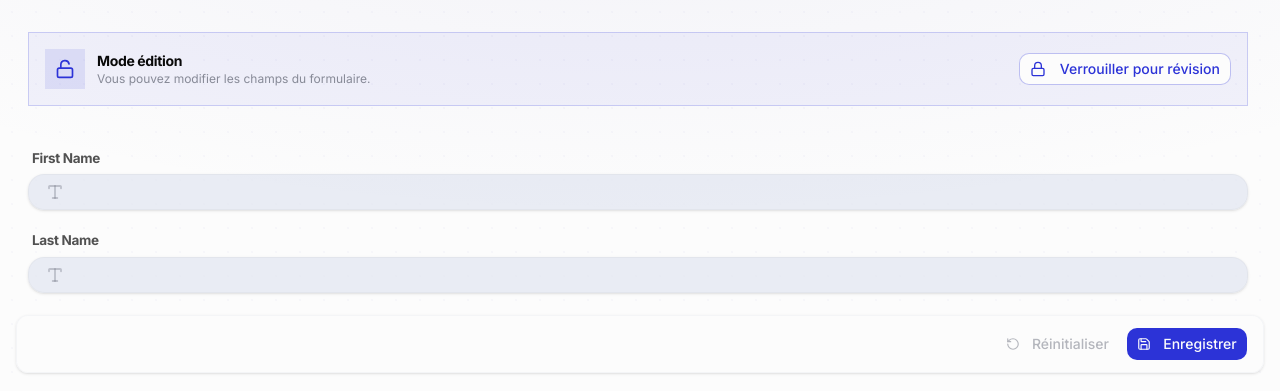
Test: DynamicForm - modes › toggles review mode lock state
Click the button "Verrouiller pour révision". click: x=1125, y=69
box: [1019, 53, 1231, 85]
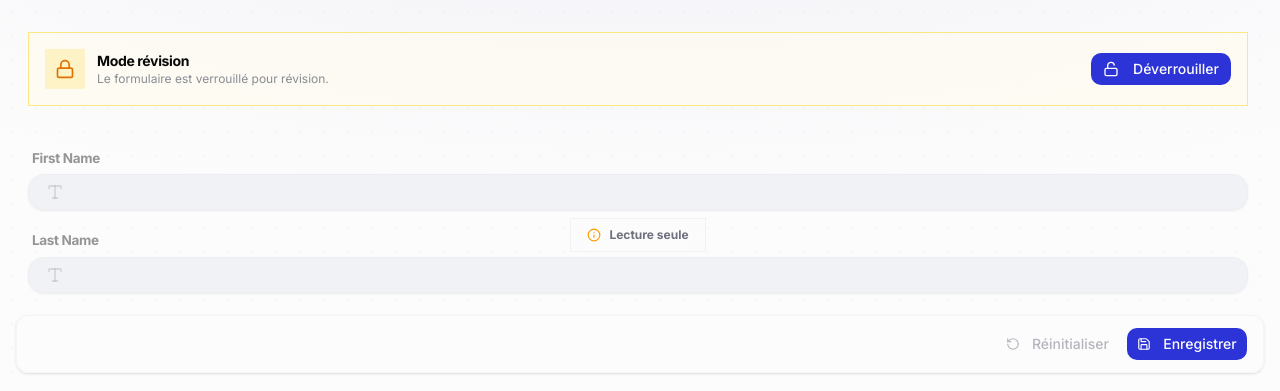
Expected: the button "Déverrouiller" is shown, [1091, 53, 1231, 85]
Expected: the text "Mode révision" is shown, [97, 52, 189, 69]
